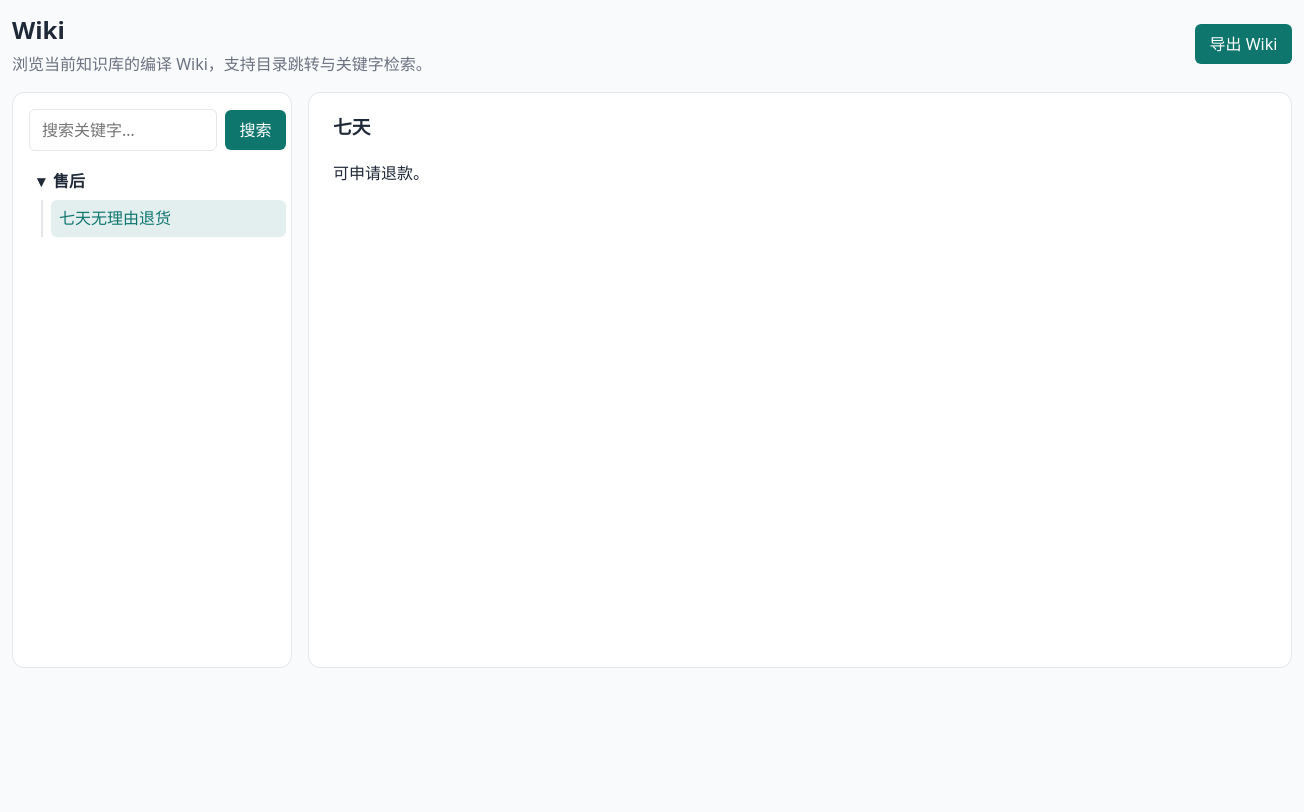
Test: WikiPage › downloads wiki zip from the wiki page
Expected: the button "七天无理由退货" is shown, [51, 200, 286, 237]
Click the button "导出 Wiki": x=1244, y=44 [1195, 24, 1292, 64]
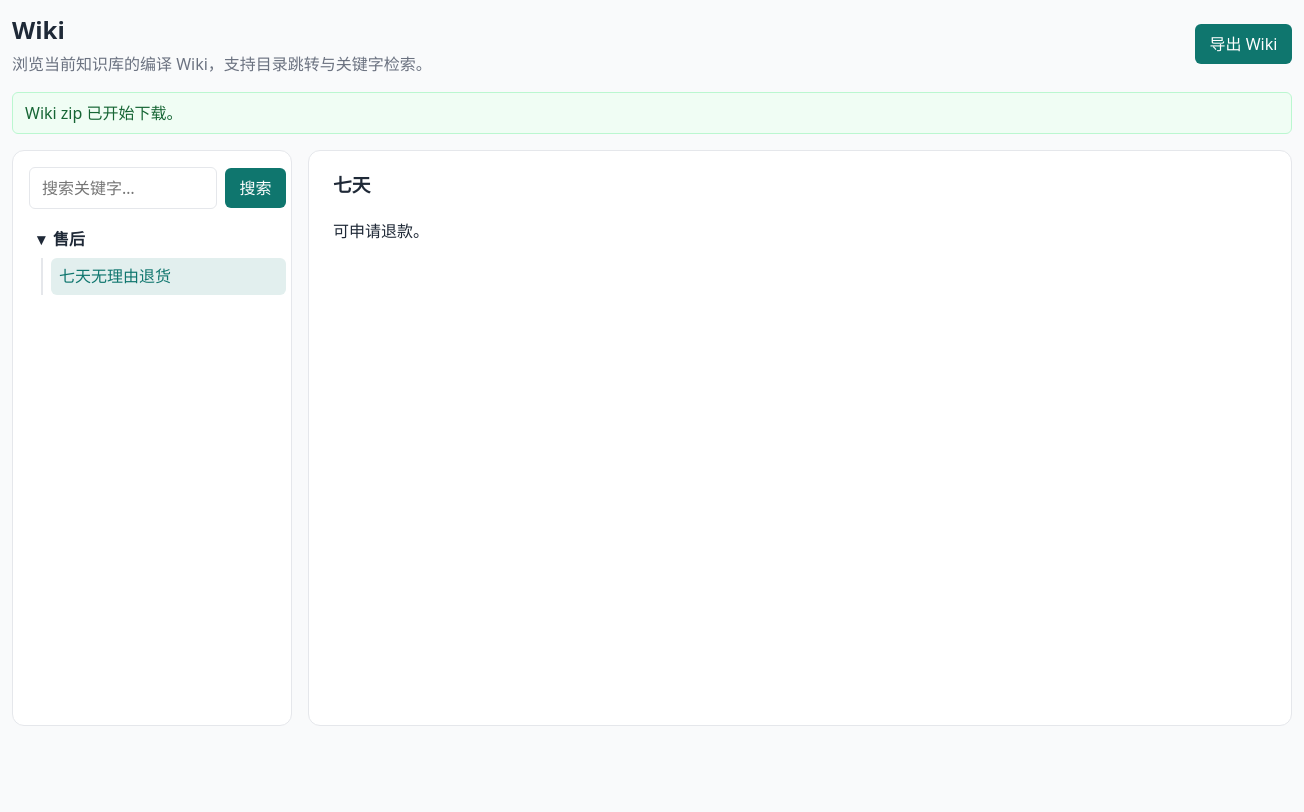
Result: the text "Wiki zip 已开始下载。" is shown at [12, 92, 1292, 134]
